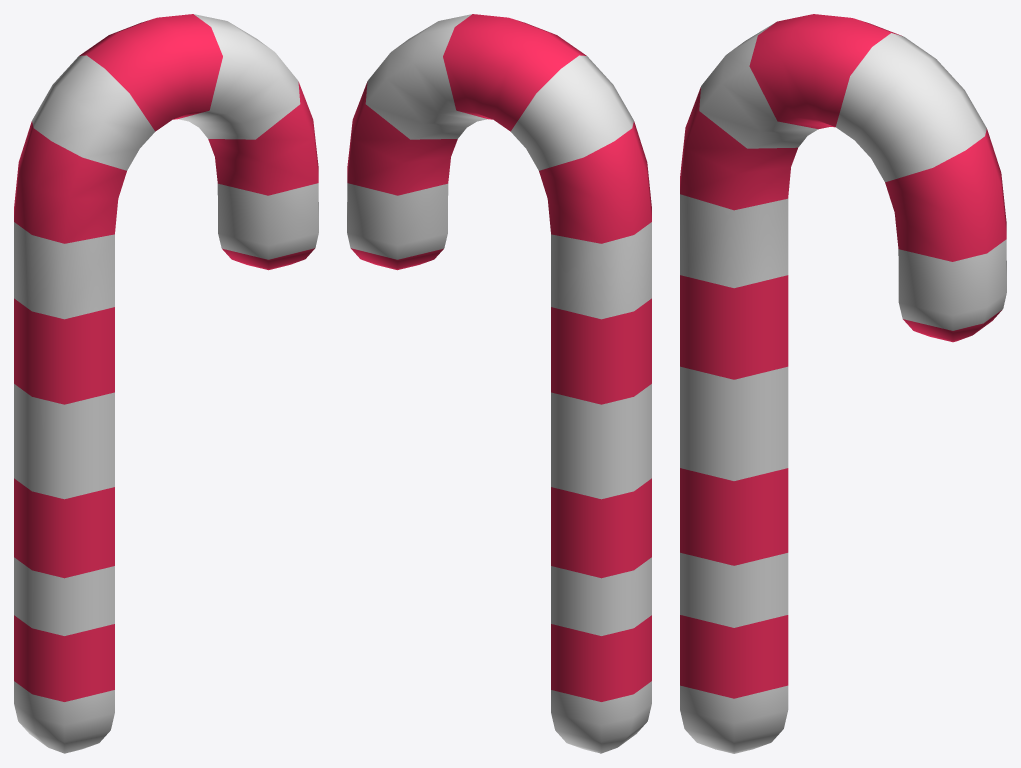
File: candyCaneA.gltf.glb
3 views of the same model, side by side, from view 1: azimuth 30°, elevation 25°; view 2: azimuth 150°, elevation 25°; view 3: azimuth 330°, elevation 25° (orthographic). The views are drawn at different scales.
Visible parts, largest first — view 1: candyCaneA; view 2: candyCaneA; view 3: candyCaneA.
Boxes of the visible parts, bbox=[...] form: candyCaneA: bbox=[14, 14, 318, 753]; candyCaneA: bbox=[347, 14, 651, 753]; candyCaneA: bbox=[680, 14, 1006, 753].
Size of the model in its own units: 0.2602 by 0.6035 by 0.0793.
